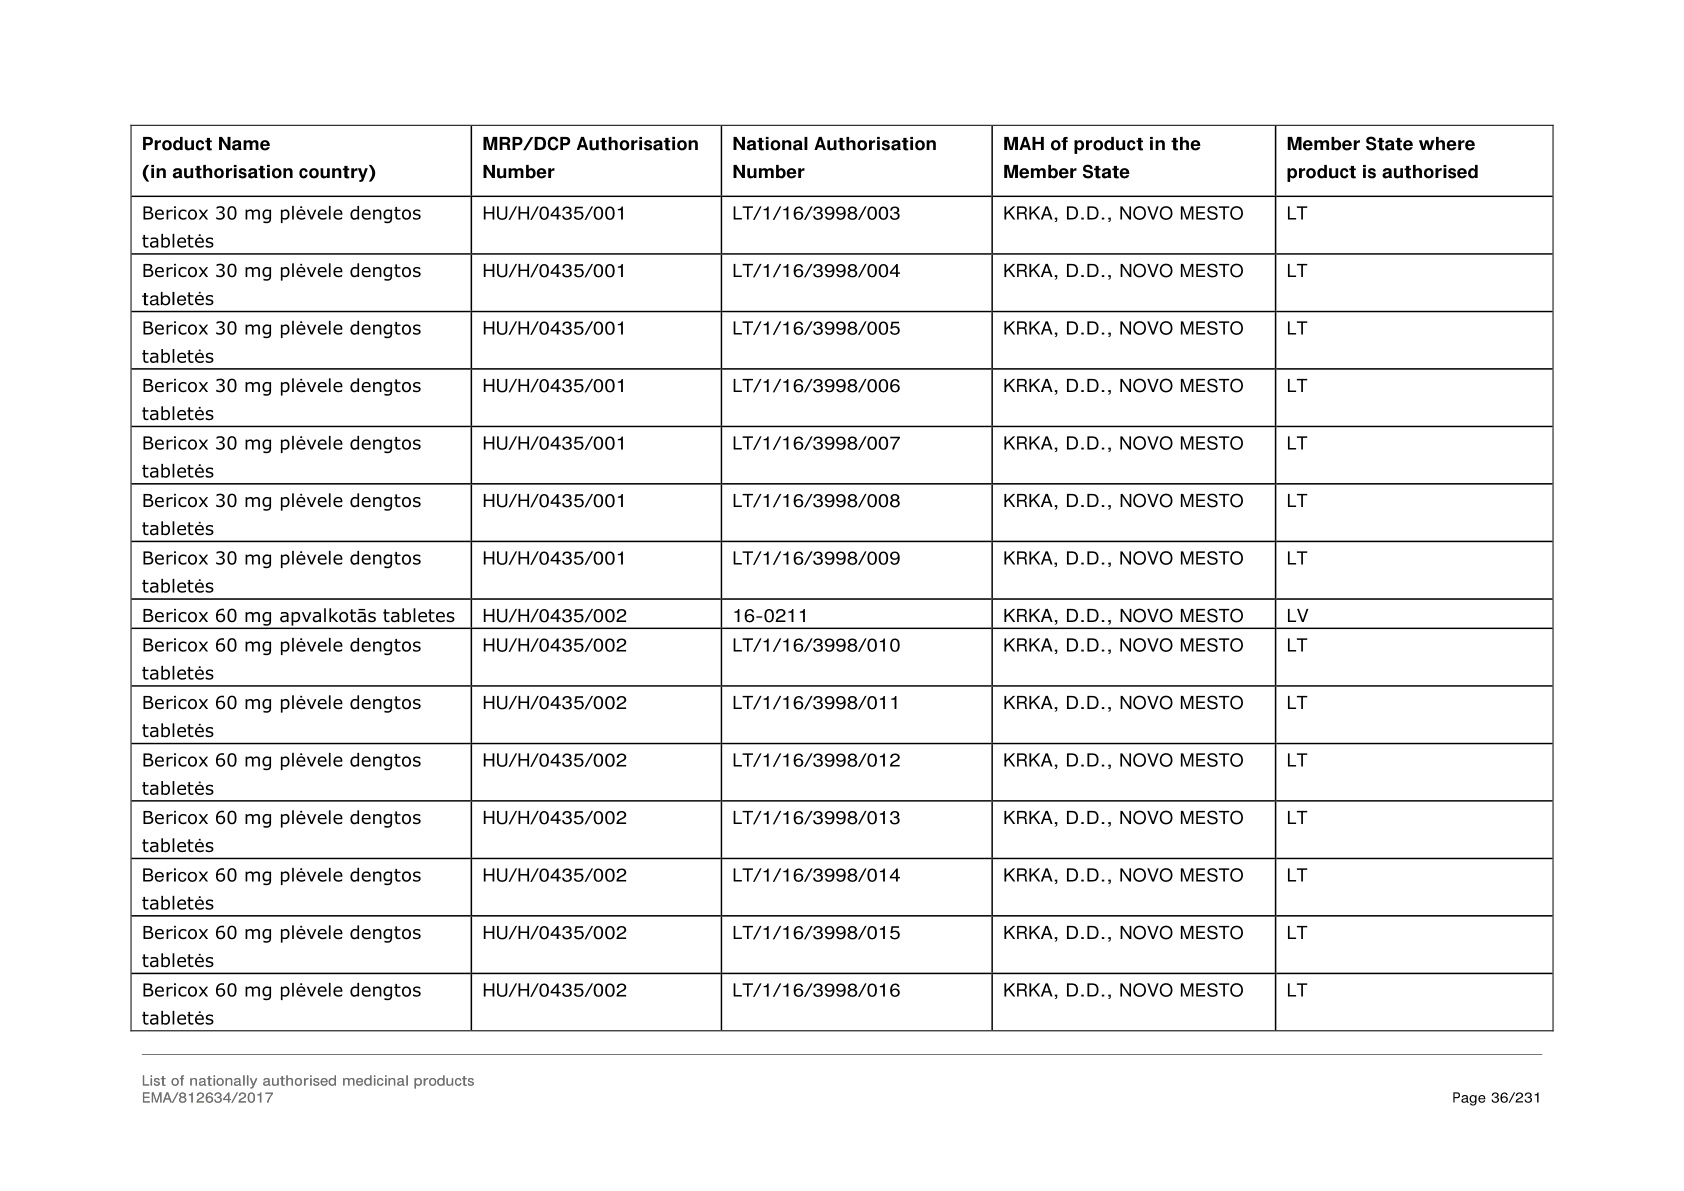full_lined: (130, 124, 1555, 1032)
